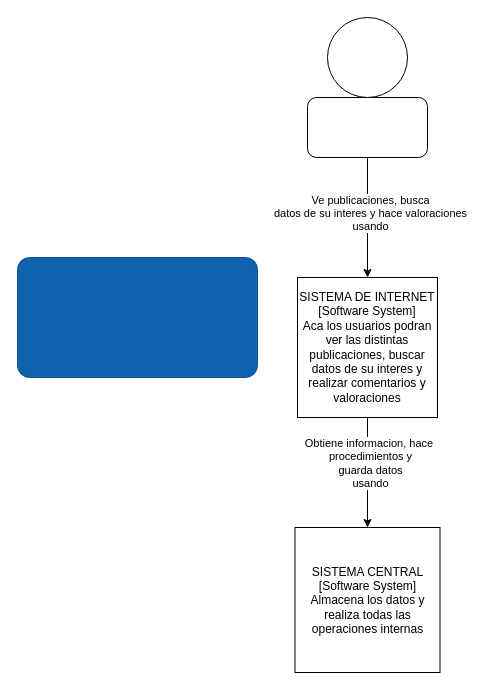
Image size: 484x690. Some labels were removed from this diagram. The shapes that lost their labels are listed below. From the top down, each one's centre as x and y in pixels, then its label:
(367,127): Usuario cliente Un usuario q entra a la pagina
(137,317): System name [Software System] Description of software system.
